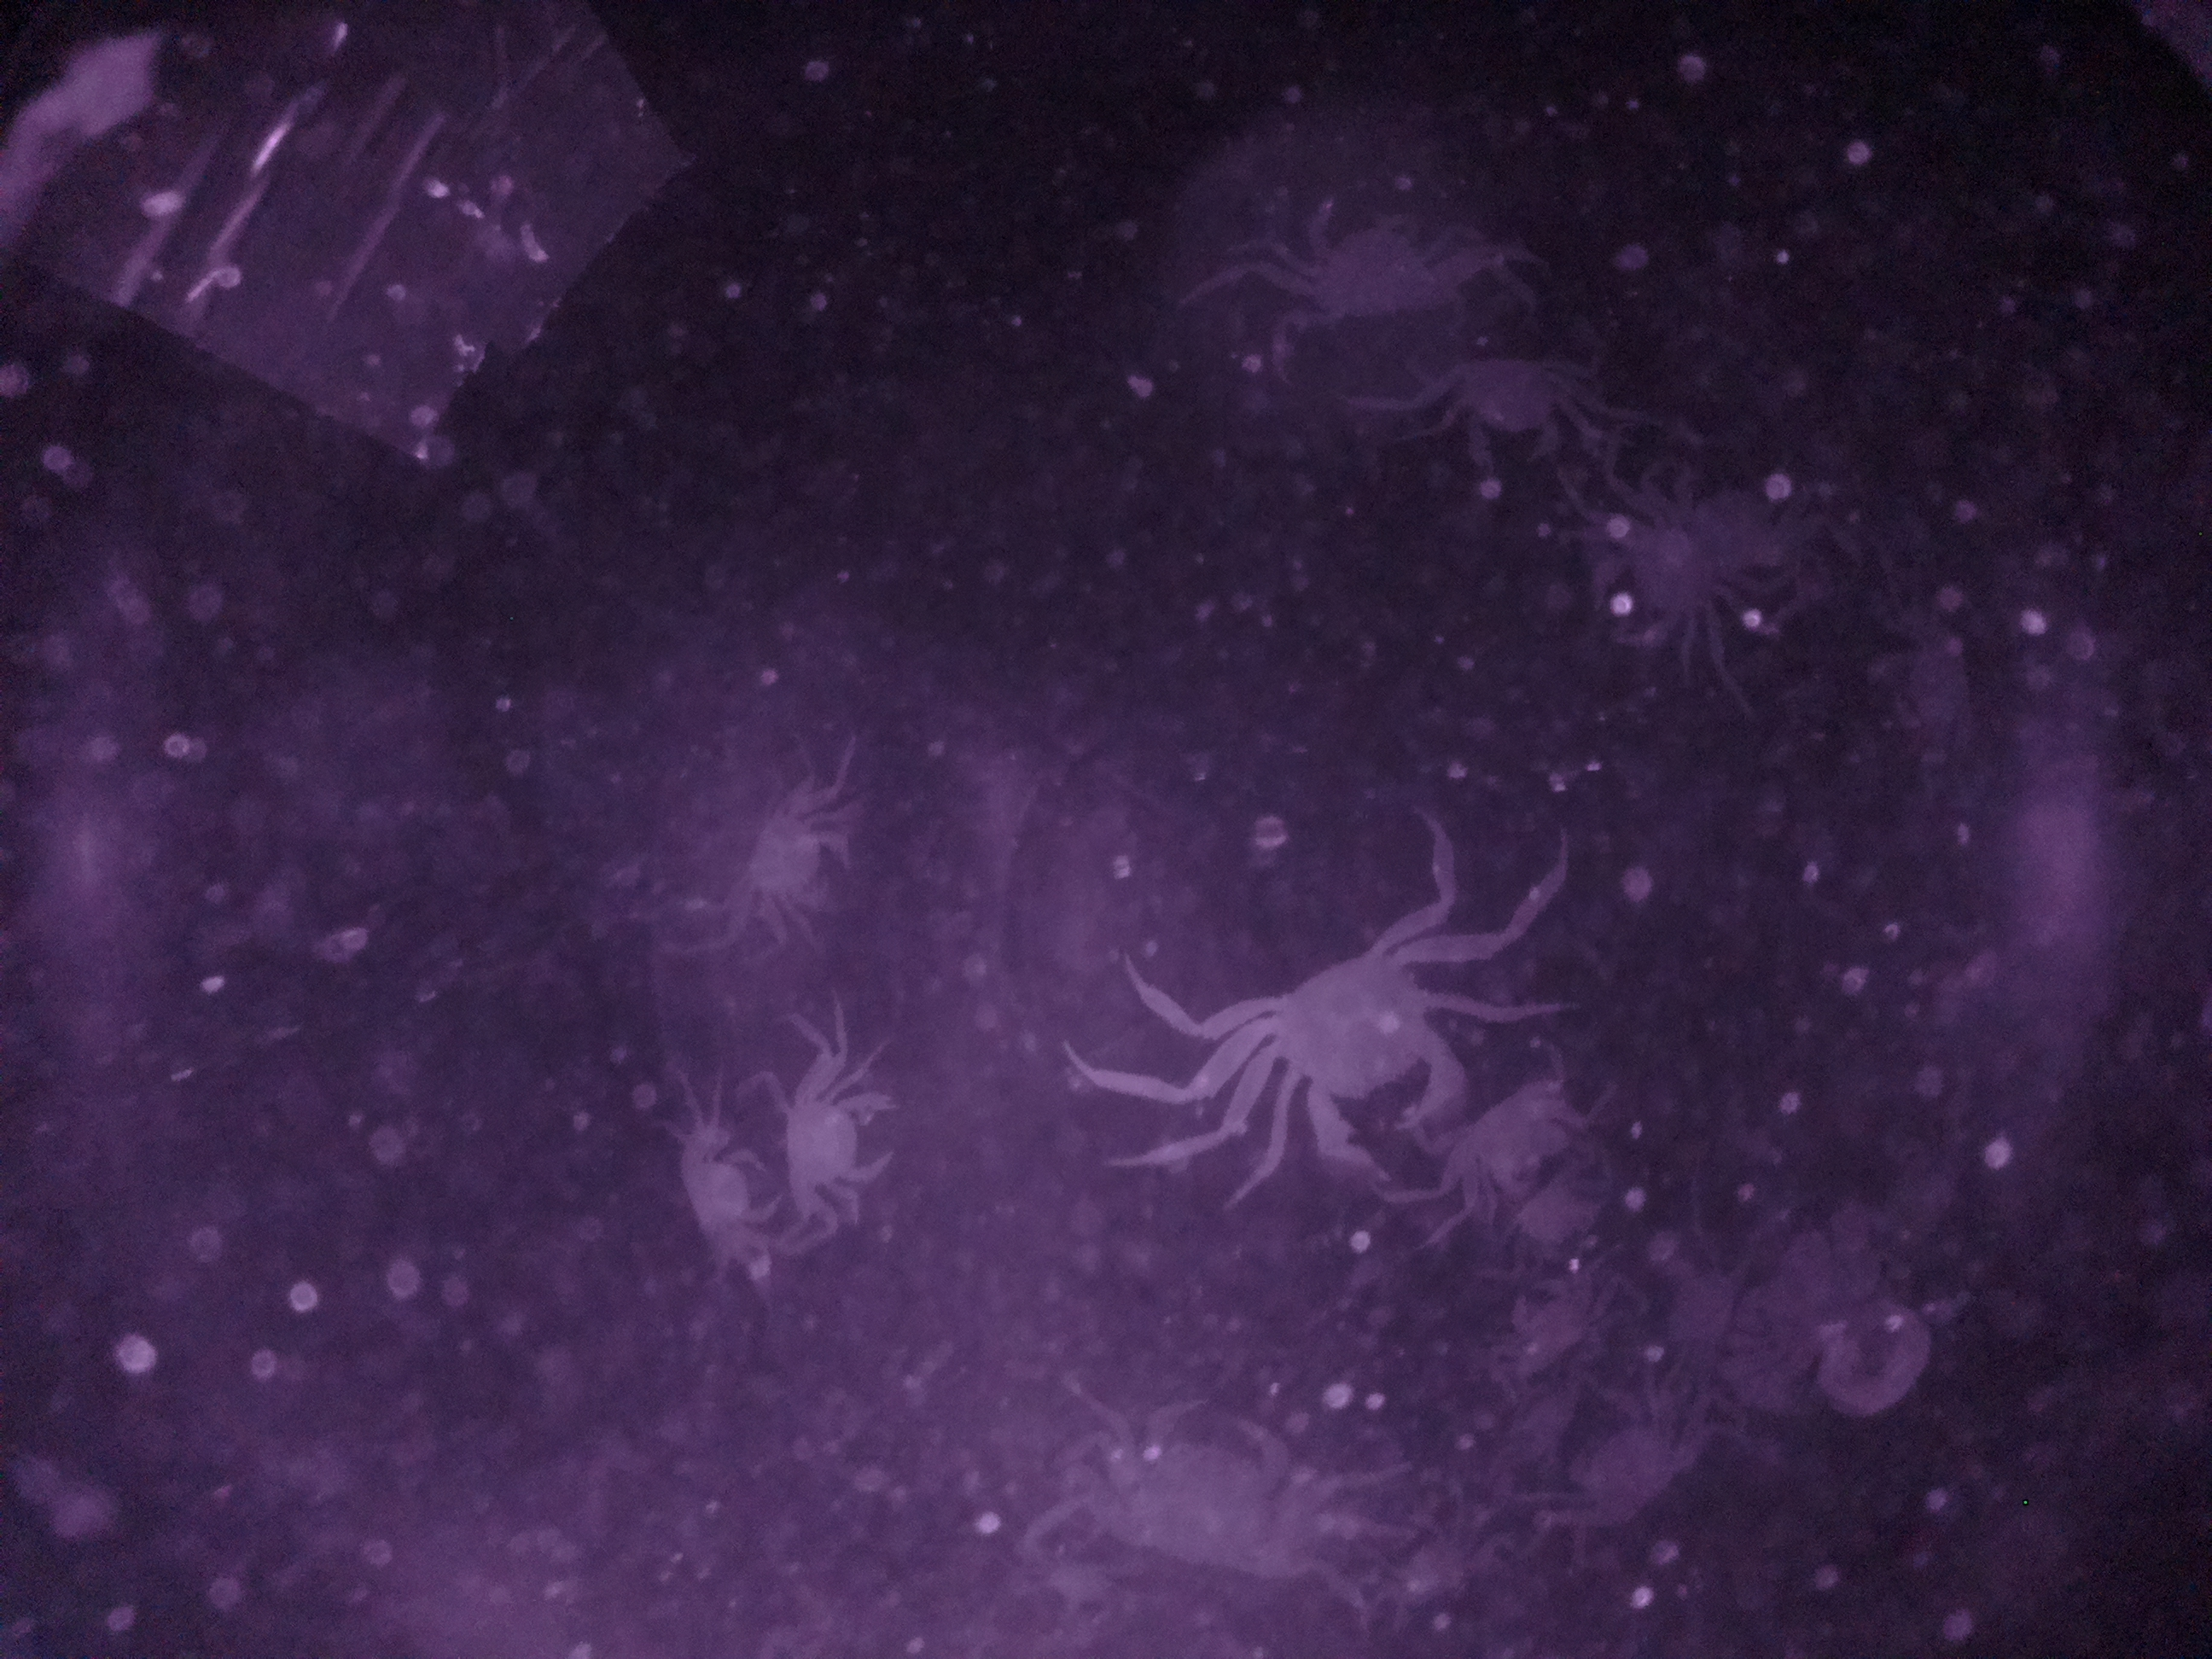Crab: (1223, 910, 1486, 1201), (1400, 1051, 1595, 1244), (1407, 331, 1616, 481), (766, 1046, 902, 1276), (709, 770, 873, 955), (667, 1087, 789, 1297), (1484, 1232, 1620, 1415)
